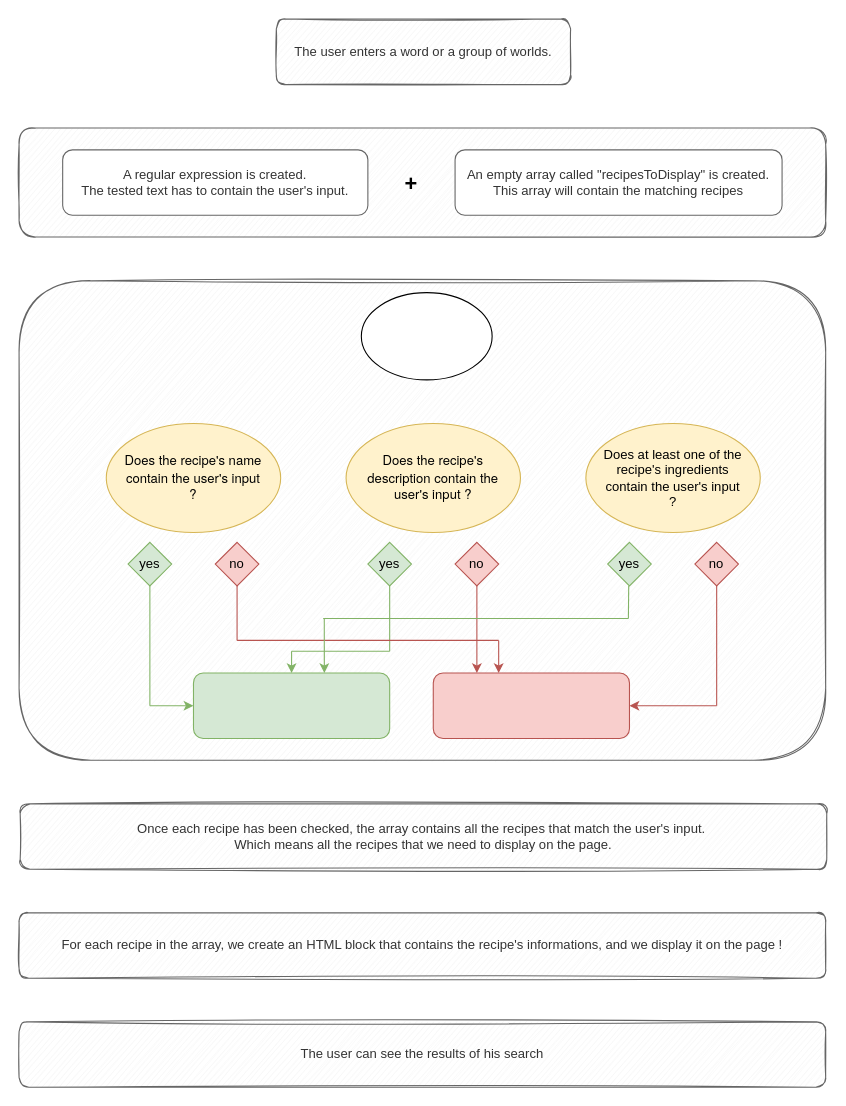
This 846x1106 diagram has some shape labels left out. The shapes that lost their labels are listed below. From the top down, each one's box as (x1, y1, x2, y2) in pixels, then its label:
(360, 292, 492, 380): For each recipe
(192, 672, 390, 738): Recipe is matching ! We can add it to the array.
(432, 672, 629, 738): Recipe is not matching... Let's check the next one !
